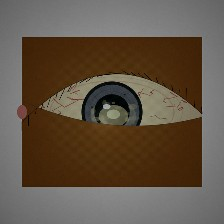corneal_ulcer: (90, 97, 137, 135)
